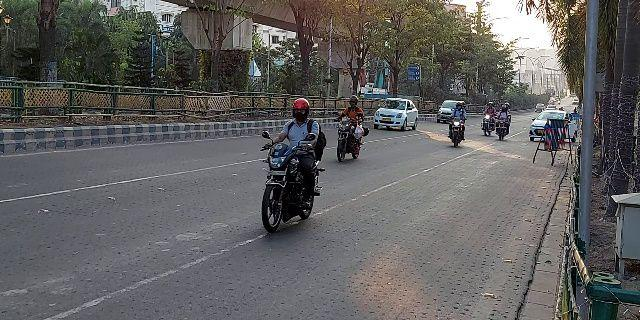Car: (372, 95, 417, 133)
Motorbike: (257, 93, 323, 240), (336, 91, 369, 165), (448, 99, 468, 150), (496, 99, 513, 144), (479, 97, 495, 138)
